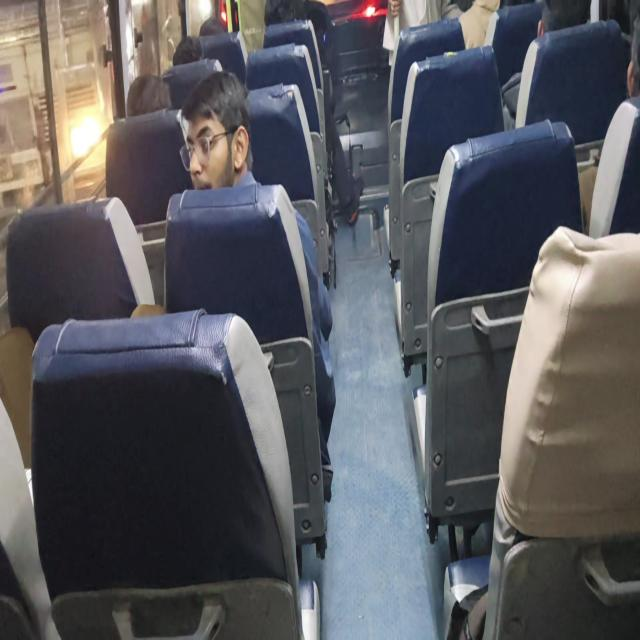person: (188, 99, 255, 186), (126, 73, 174, 136), (541, 0, 586, 50), (621, 0, 640, 97), (196, 0, 242, 40), (159, 54, 205, 70)
